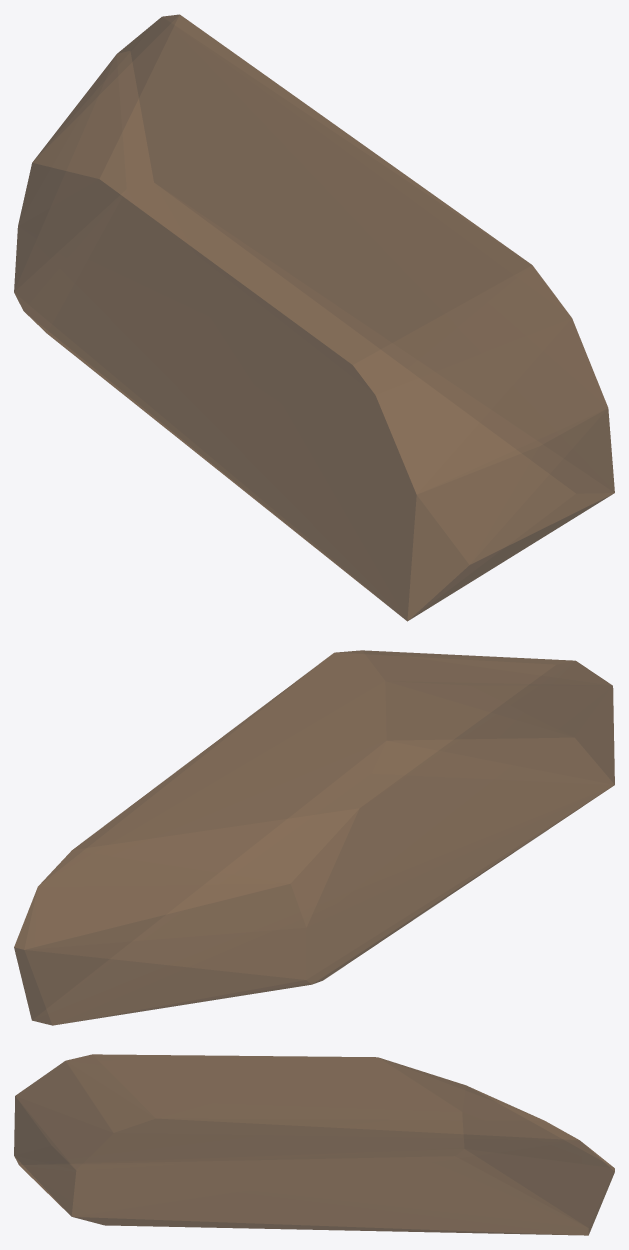
3 views of the same model, one above another, from view 1: azimuth 30°, elevation 25°; view 2: azimuth 150°, elevation 25°; view 3: azimuth 270°, elevation 25° (orthographic). The views are drawn at different scales.
Visible parts, largest first — view 1: Shape_IndexedFaceSet.021_Shape_IndexedFaceSet.16488; view 2: Shape_IndexedFaceSet.021_Shape_IndexedFaceSet.16488; view 3: Shape_IndexedFaceSet.021_Shape_IndexedFaceSet.16488.
Boxes of the visible parts, box(x1,y1,x2,y2) form: Shape_IndexedFaceSet.021_Shape_IndexedFaceSet.16488: box(14, 14, 614, 621); Shape_IndexedFaceSet.021_Shape_IndexedFaceSet.16488: box(14, 650, 614, 1025); Shape_IndexedFaceSet.021_Shape_IndexedFaceSet.16488: box(14, 1054, 614, 1235).
Bounding box in the file's own units: 0.0756 × 0.0571 × 0.2728.
